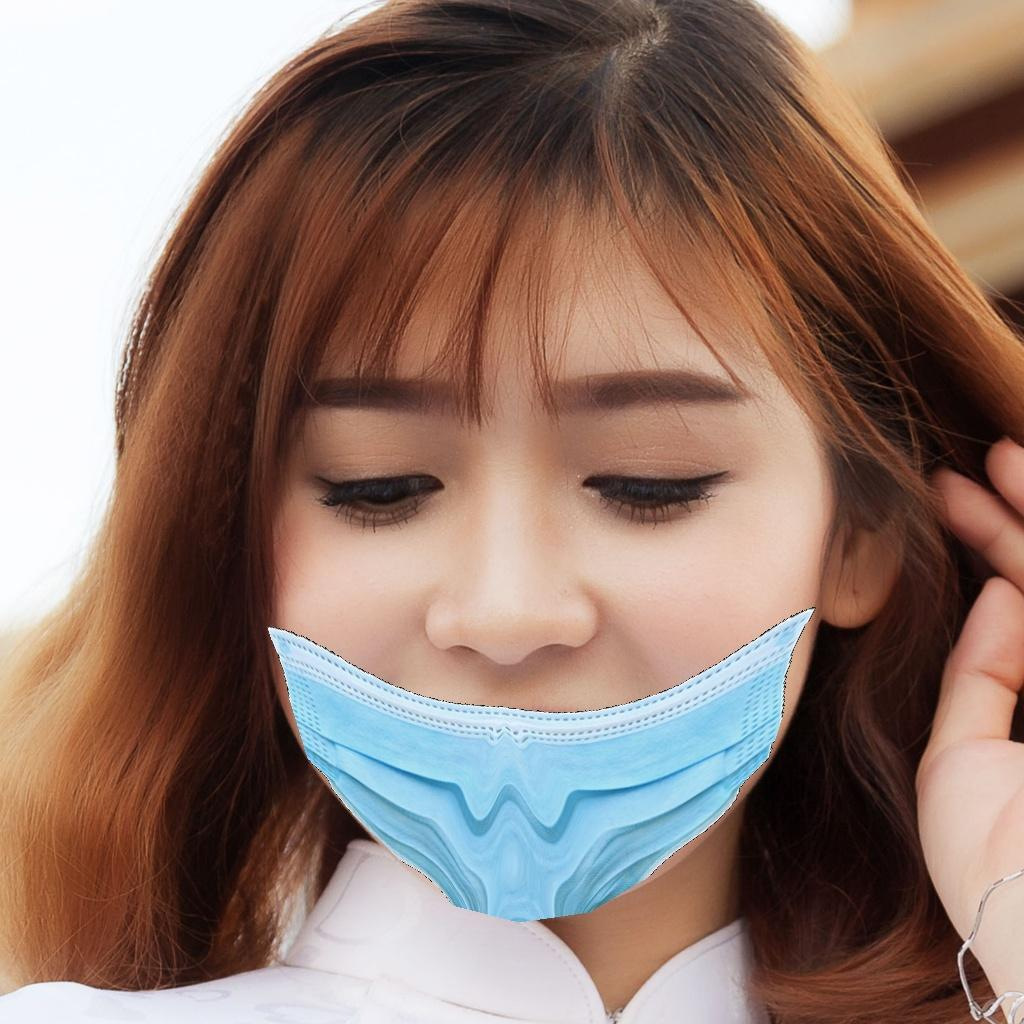Máscara Incorreta: (230, 330, 836, 912)
